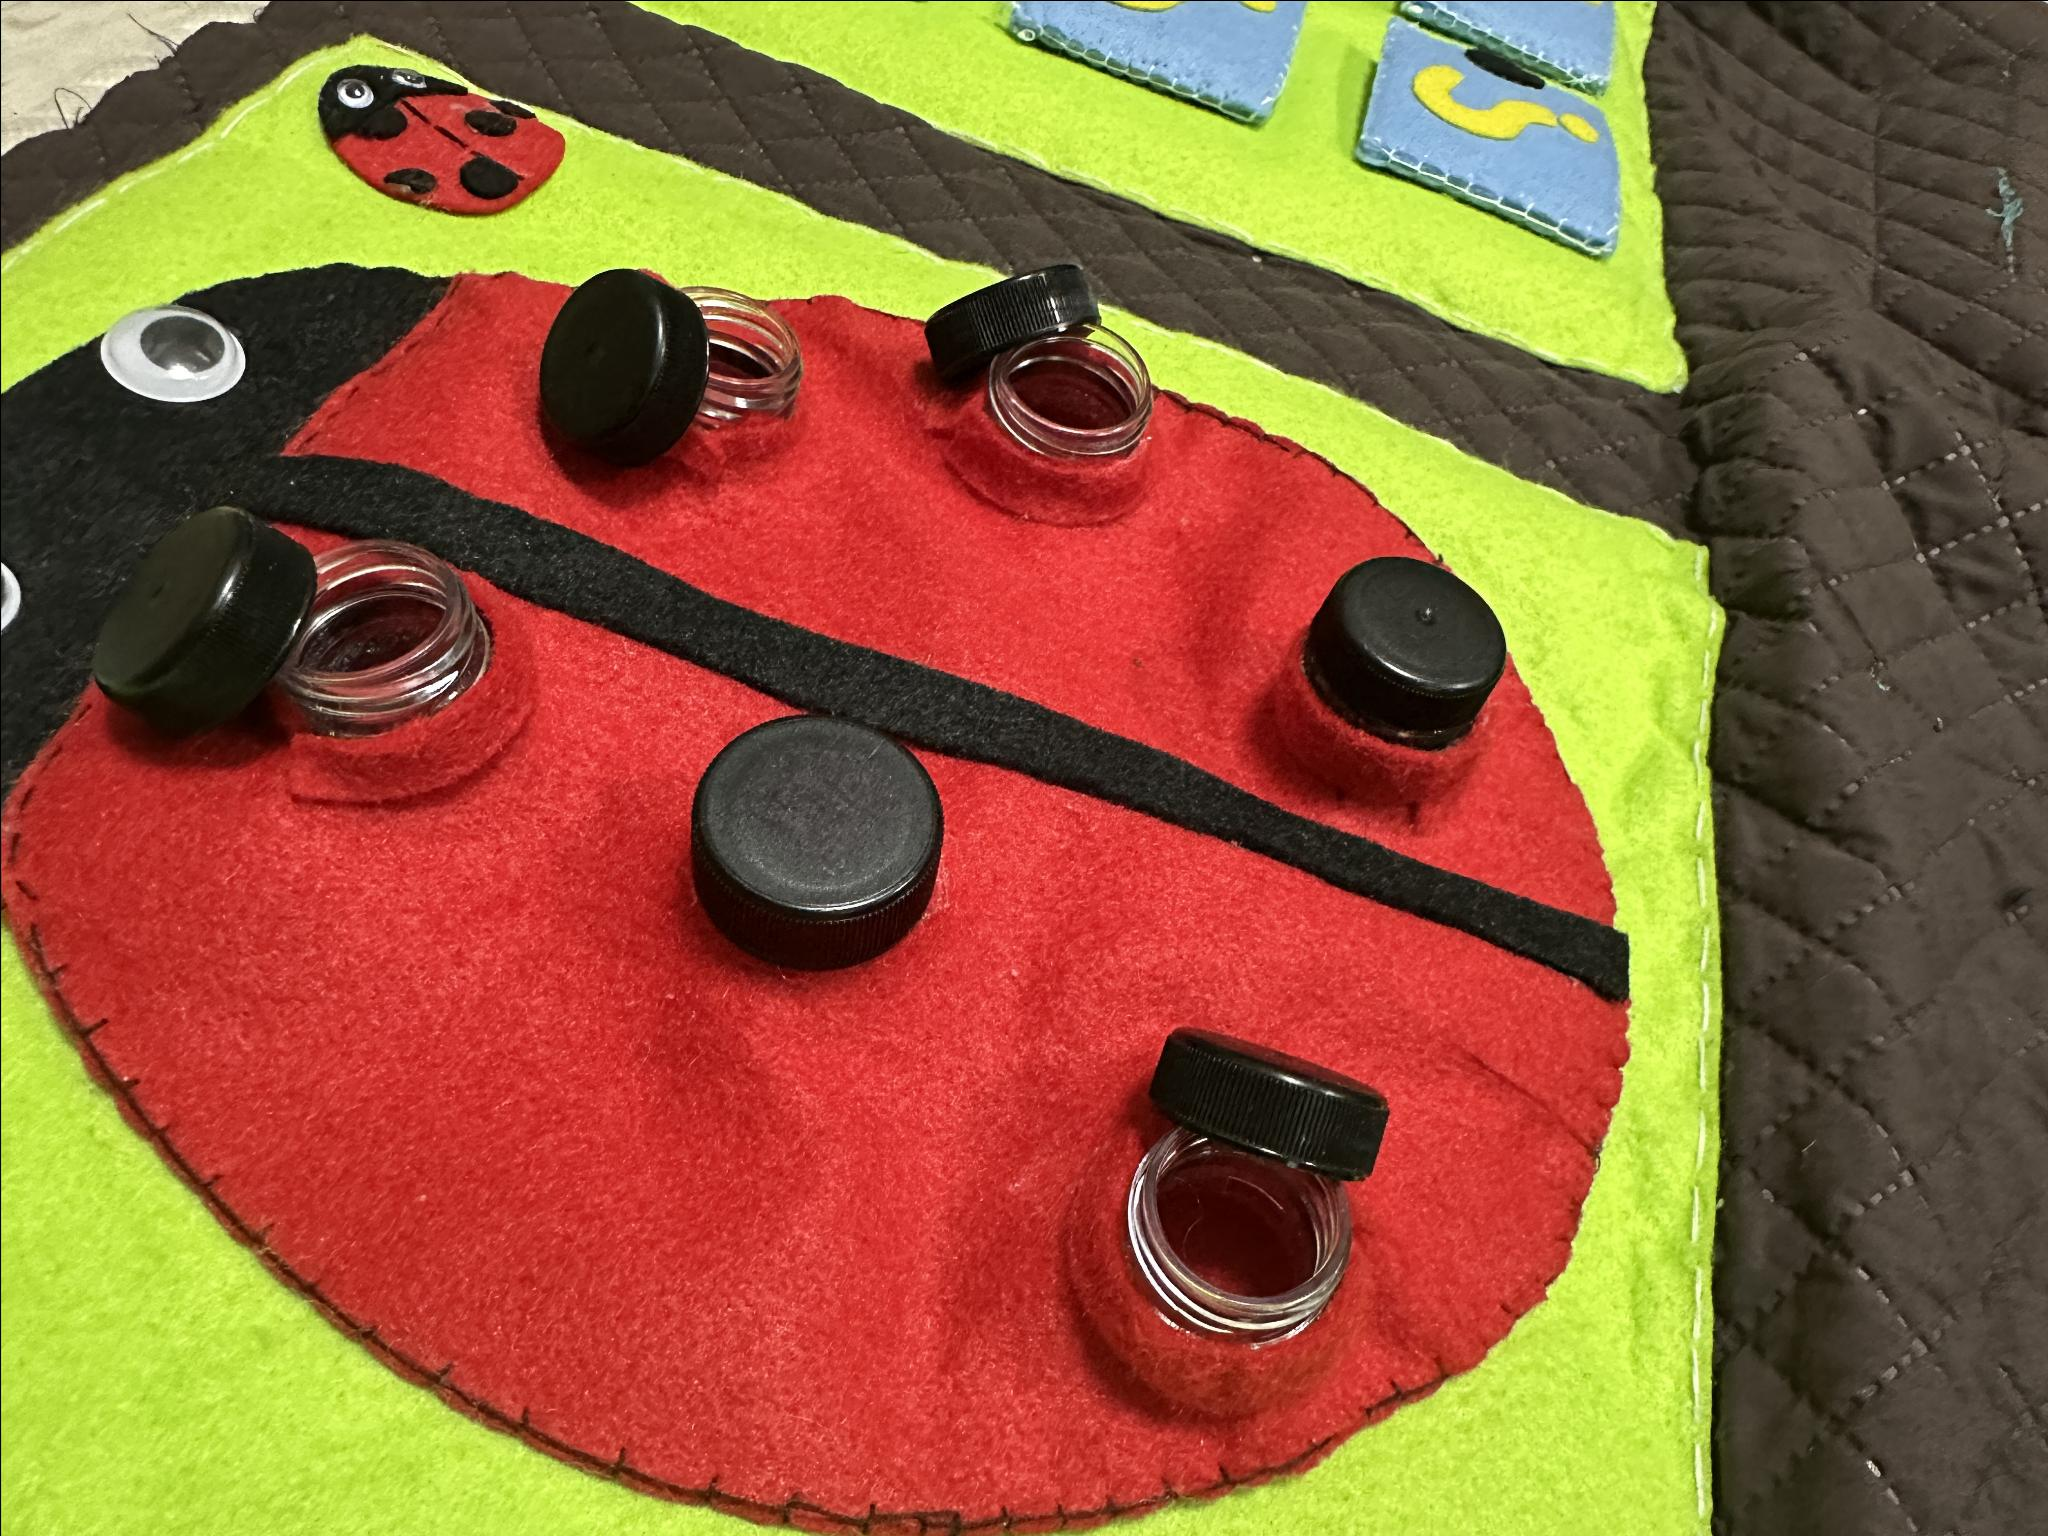cap_ng: (68, 495, 500, 789), (1077, 1013, 1400, 1392), (526, 255, 821, 484), (911, 252, 1159, 511)
cap_ok: (656, 707, 951, 1002), (1250, 560, 1517, 805)
